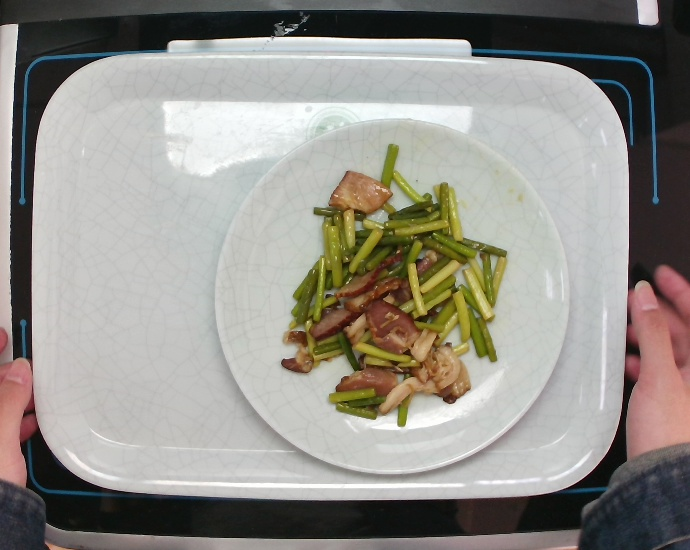JYsf-Da_Yuan_Pan: (207, 111, 575, 481)
